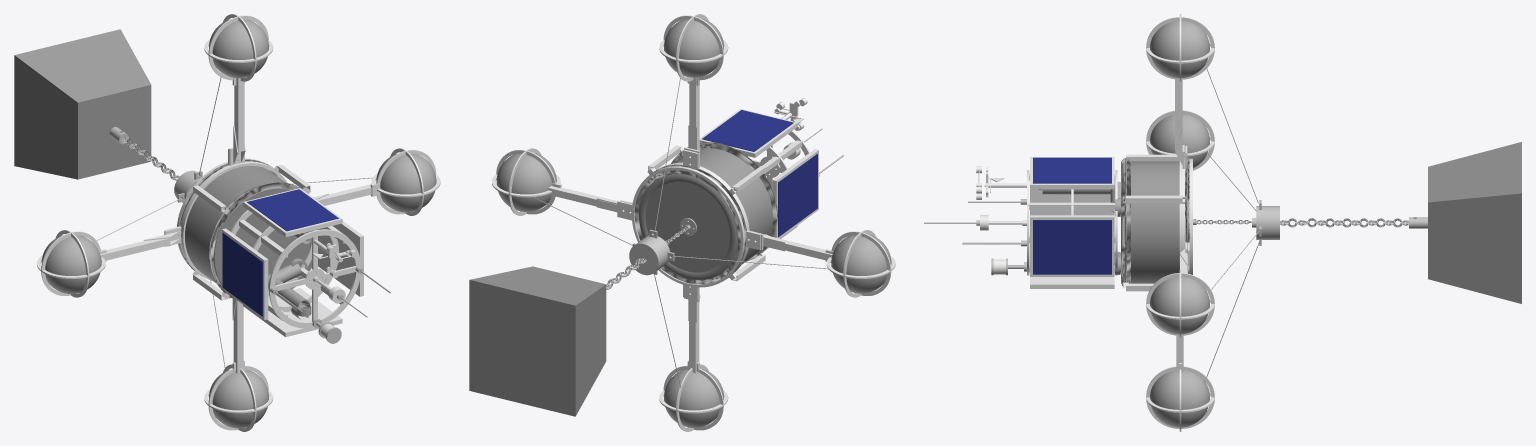
Rendered from FALCON-01.fbx.
The picture shows the model from 3 angles, left to right: view 1: azimuth 30°, elevation 25°; view 2: azimuth 150°, elevation 25°; view 3: azimuth 270°, elevation 25°; orthographic projection.
Parts seen in each view (by area): view 1: ANCHOR_REINFORCED_CONCRETE_BODY, UPPER_FRAME_6061_BODY, MAIN_FLOAT_HDPE_BODY, STABILIZER_BUOY_01_HDPE_BODY, STABILIZER_BUOY_04_HDPE_BODY, STABILIZER_BUOY_02_HDPE_BODY, STABILIZER_BUOY_03_HDPE_BODY, TOP_CAP_HDPE_BODY, SOLAR_PANEL_04_MONOCRYSTALLINE_FACE, SOLAR_PANEL_01_MONOCRYSTALLINE_FACE, SOLAR_PANEL_02_ALUMINUM_FRAME, FRAME_6061_COLLAR_BODY (+14 smaller); view 2: ANCHOR_REINFORCED_CONCRETE_BODY, MAIN_FLOAT_HDPE_BODY, FRAME_6061_COLLAR_BODY, STABILIZER_BUOY_03_HDPE_BODY, STABILIZER_BUOY_02_HDPE_BODY, STABILIZER_BUOY_01_HDPE_BODY, STABILIZER_BUOY_04_HDPE_BODY, SOLAR_PANEL_04_MONOCRYSTALLINE_FACE, SOLAR_PANEL_01_MONOCRYSTALLINE_FACE, MAIN_FLOAT_HDPE_BODY (1), MAIN_FLOAT_LOWER_ROUNDED_FAIRING_HDPE_BODY, BALLAST_316SS_CORE (+12 smaller); view 3: ANCHOR_REINFORCED_CONCRETE_BODY, MAIN_FLOAT_HDPE_BODY, SOLAR_PANEL_02_MONOCRYSTALLINE_FACE, STABILIZER_BUOY_01_HDPE_BODY, STABILIZER_BUOY_02_HDPE_BODY, STABILIZER_BUOY_04_HDPE_BODY, SOLAR_PANEL_01_MONOCRYSTALLINE_FACE, STABILIZER_BUOY_03_HDPE_BODY, UPPER_FRAME_6061_BODY, SOLAR_PANEL_04_ALUMINUM_FRAME, MAIN_FLOAT_UPPER_ROUNDED_FAIRING_HDPE_BODY, FRAME_6061_COLLAR_BODY (+9 smaller).
Boxes of the visible parts, x1,y1,x2,y2 form: ANCHOR_REINFORCED_CONCRETE_BODY: [14, 29, 151, 179]; UPPER_FRAME_6061_BODY: [230, 210, 361, 328]; MAIN_FLOAT_HDPE_BODY: [185, 166, 285, 283]; STABILIZER_BUOY_01_HDPE_BODY: [376, 153, 436, 212]; STABILIZER_BUOY_04_HDPE_BODY: [209, 370, 268, 428]; STABILIZER_BUOY_02_HDPE_BODY: [209, 19, 268, 78]; STABILIZER_BUOY_03_HDPE_BODY: [41, 235, 101, 294]; TOP_CAP_HDPE_BODY: [214, 188, 311, 295]; SOLAR_PANEL_04_MONOCRYSTALLINE_FACE: [222, 233, 262, 316]; SOLAR_PANEL_01_MONOCRYSTALLINE_FACE: [247, 189, 338, 231]; SOLAR_PANEL_02_ALUMINUM_FRAME: [317, 221, 363, 296]; FRAME_6061_COLLAR_BODY: [165, 148, 287, 280]; ANCHOR_REINFORCED_CONCRETE_BODY: [469, 266, 606, 416]; MAIN_FLOAT_HDPE_BODY: [645, 148, 772, 274]; FRAME_6061_COLLAR_BODY: [620, 149, 761, 300]; STABILIZER_BUOY_03_HDPE_BODY: [831, 234, 891, 293]; STABILIZER_BUOY_02_HDPE_BODY: [664, 18, 723, 77]; STABILIZER_BUOY_01_HDPE_BODY: [496, 152, 556, 211]; STABILIZER_BUOY_04_HDPE_BODY: [664, 368, 723, 427]; SOLAR_PANEL_04_MONOCRYSTALLINE_FACE: [778, 153, 817, 237]; SOLAR_PANEL_01_MONOCRYSTALLINE_FACE: [702, 110, 793, 151]; MAIN_FLOAT_HDPE_BODY (1): [639, 174, 736, 279]; MAIN_FLOAT_LOWER_ROUNDED_FAIRING_HDPE_BODY: [634, 164, 746, 284]; BALLAST_316SS_CORE: [629, 229, 674, 275]; ANCHOR_REINFORCED_CONCRETE_BODY: [1428, 142, 1521, 303]; MAIN_FLOAT_HDPE_BODY: [1130, 161, 1179, 283]; SOLAR_PANEL_02_MONOCRYSTALLINE_FACE: [1033, 220, 1111, 274]; STABILIZER_BUOY_01_HDPE_BODY: [1150, 277, 1209, 334]; STABILIZER_BUOY_02_HDPE_BODY: [1150, 21, 1209, 78]; STABILIZER_BUOY_04_HDPE_BODY: [1150, 370, 1209, 427]; SOLAR_PANEL_01_MONOCRYSTALLINE_FACE: [1033, 157, 1111, 183]; STABILIZER_BUOY_03_HDPE_BODY: [1150, 114, 1209, 168]; UPPER_FRAME_6061_BODY: [1027, 170, 1117, 275]; SOLAR_PANEL_04_ALUMINUM_FRAME: [1030, 189, 1114, 215]; MAIN_FLOAT_UPPER_ROUNDED_FAIRING_HDPE_BODY: [1121, 158, 1130, 286]; FRAME_6061_COLLAR_BODY: [1179, 146, 1192, 274].
Size of the model in its own units: 2416 by 2416 by 3180.
